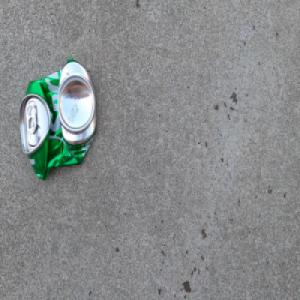SodaCan: (19, 55, 98, 182)
